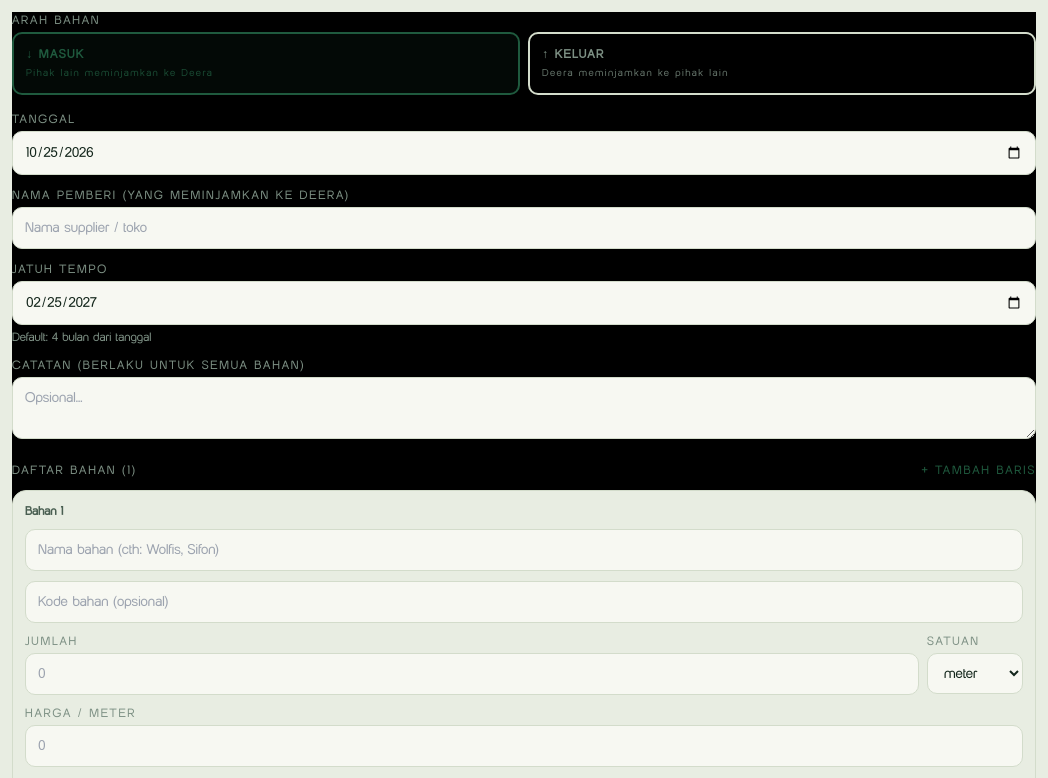
Test: PinjamBulkForm › switches to Nama Peminjam field when keluar clicked
The width and height of the screenshot is (1048, 778).
Click the text "↑ Keluar": (573, 54) x1=542 y1=46 x2=605 y2=61
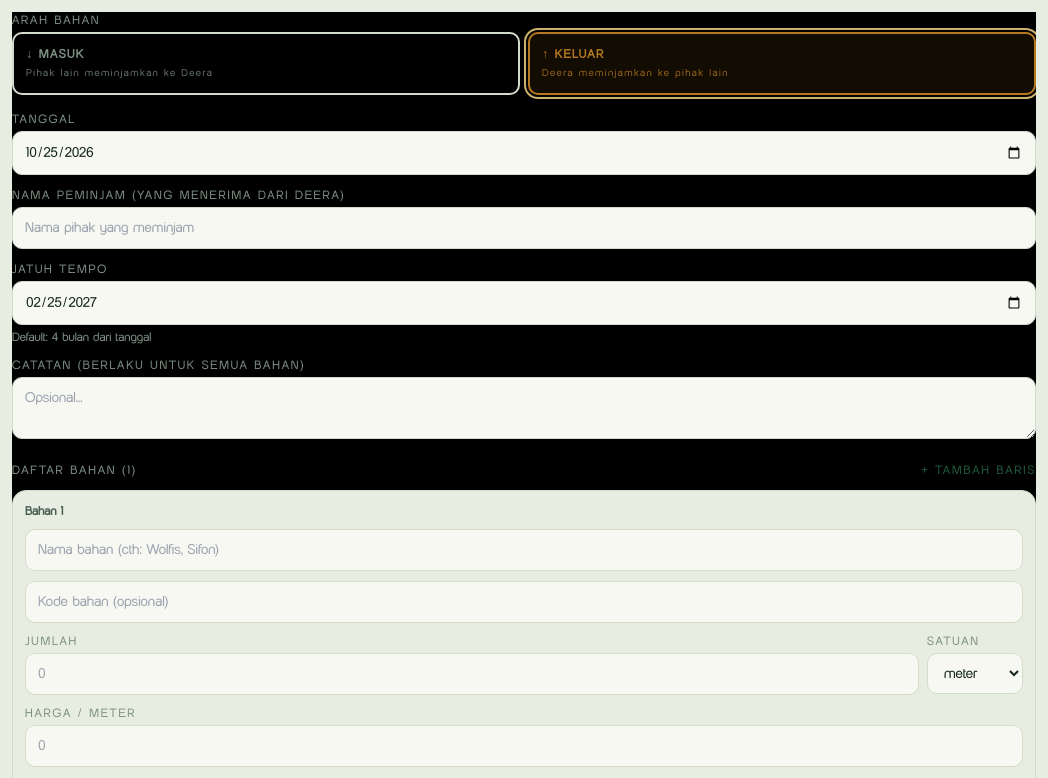
Check: the field with placeholder "Nama pihak yang meminjam" is shown, box x1=12 y1=207 x2=1036 y2=249
